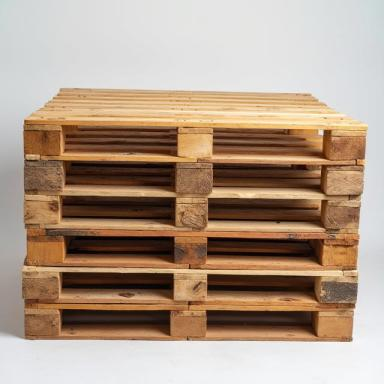pallet: (24, 88, 368, 161), (23, 190, 361, 234), (22, 265, 358, 308), (23, 229, 360, 270), (24, 155, 365, 195), (24, 303, 354, 342), (207, 311, 312, 337), (61, 309, 170, 330), (207, 274, 315, 292), (207, 241, 316, 257), (62, 196, 175, 206), (65, 250, 174, 258), (69, 236, 174, 244), (208, 237, 309, 243), (62, 284, 173, 289)
